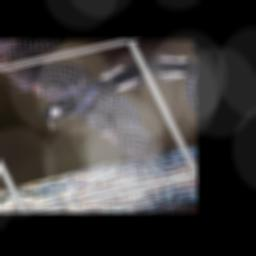Woodpecker: (0, 43, 184, 190)
